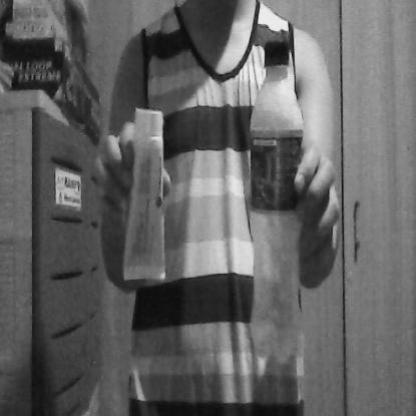Plastic Bottle: (240, 24, 312, 372)
